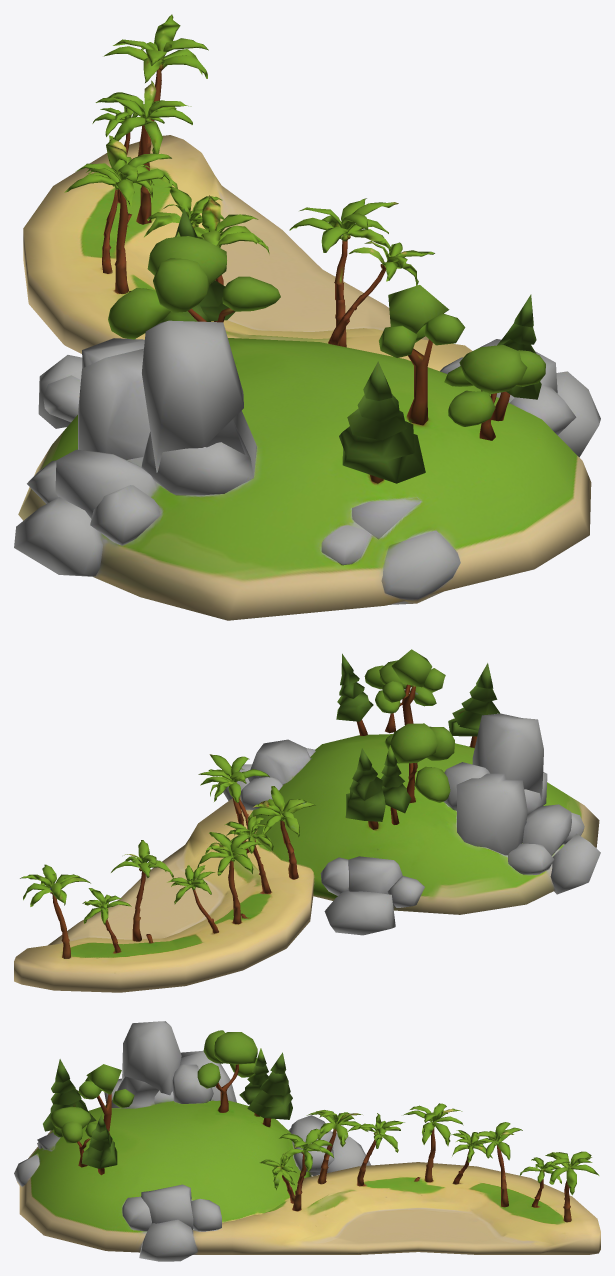
File: isle_11_p1.glb
3 views of the same model, one above another, from view 1: azimuth 30°, elevation 25°; view 2: azimuth 150°, elevation 25°; view 3: azimuth 270°, elevation 25° (orthographic). The views are drawn at different scales.
Parts seen in each view (by area): view 1: tripo_node_95c1abf6-a5b8-450d-afea-b5f51e802dae; view 2: tripo_node_95c1abf6-a5b8-450d-afea-b5f51e802dae; view 3: tripo_node_95c1abf6-a5b8-450d-afea-b5f51e802dae.
Part boxes in pixels (<box>): tripo_node_95c1abf6-a5b8-450d-afea-b5f51e802dae: <box>14,14,600,620</box>; tripo_node_95c1abf6-a5b8-450d-afea-b5f51e802dae: <box>14,649,600,992</box>; tripo_node_95c1abf6-a5b8-450d-afea-b5f51e802dae: <box>14,1021,600,1261</box>.
Bounding box in the file's own units: 0.6387 × 0.2676 × 0.998.
1 material, 1 textured.
